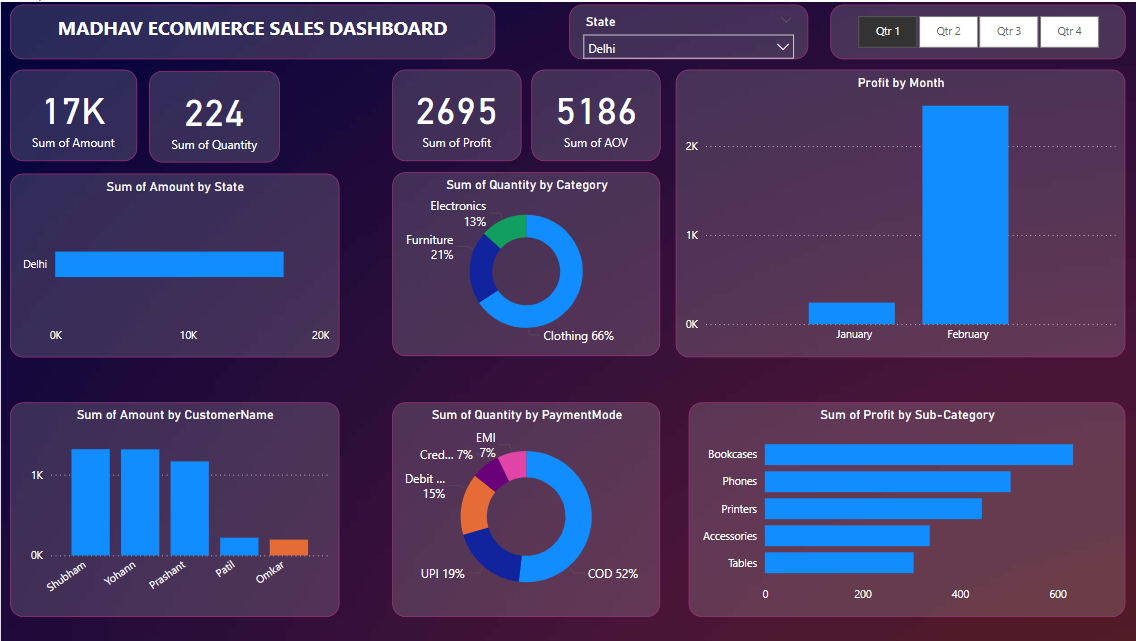

The page's visual inventory and layout, read from the dashboard file:
{"tool":"powerbi","page":{"name":"Page 1","canvas":[1280,720],"ordinal":0},"visuals":[{"type":"textbox","box":[9.6,2.7,546.1,61.7],"z":0},{"type":"columnChart","title":"Profit by Month","fields":{"Category":["Orders.Order Date.Variation.Date Hierarchy.Month"],"Y":["Details.Profit"]},"box":[758.8,75.5,506.3,323.8],"z":1000},{"type":"barChart","fields":{"Category":["Details.Sub-Category"],"Y":["Details.Profit"]},"box":[773.9,451.5,491.3,241.5],"z":2000},{"type":"donutChart","fields":{"Category":["Details.Category"],"Y":["Details.Quantity"]},"box":[440.5,192.1,301.9,207.2],"z":3000},{"type":"donutChart","fields":{"Y":["Details.Quantity"],"Category":["Details.PaymentMode"]},"box":[440.5,451.5,301.9,241.5],"z":4000},{"type":"card","fields":{"Values":["Details.Amount"]},"box":[9.6,75.5,142.7,102.9],"z":5000},{"type":"card","fields":{"Values":["Details.Quantity"]},"box":[167.4,76.8,146.8,102.9],"z":6000},{"type":"card","fields":{"Values":["Details.Profit"]},"box":[440.5,75.5,145.5,102.9],"z":7000},{"type":"card","fields":{"Values":["Details.AOV"]},"box":[596.9,75.5,145.5,102.9],"z":8000},{"type":"barChart","fields":{"Category":["Orders.State"],"Y":["Details.Amount"]},"box":[9.6,193.5,370.5,207.2],"z":9000},{"type":"columnChart","fields":{"Category":["Orders.CustomerName"],"Y":["Details.Amount"]},"box":[9.6,451.5,370.5,241.5],"z":10000},{"type":"slicer","fields":{"Values":["Orders.Order Date.Variation.Date Hierarchy.Quarter"]},"box":[933.1,2.7,332.1,61.7],"z":10001},{"type":"slicer","fields":{"Values":["Orders.State"]},"box":[639.5,2.7,269,61.7],"z":10002}]}

Visuals, with their boxes in screenshot pixels (x1, y1, x2, y2), scaled from the page's 1280x720 canvas onto the 1136x641 screenshot:
textbox: [9, 2, 493, 57]
"Profit by Month" columnChart: [673, 67, 1123, 355]
barChart - Details.Sub-Category x Details.Profit: [687, 402, 1123, 617]
donutChart - Details.Category x Details.Quantity: [391, 171, 659, 355]
donutChart - Details.Quantity x Details.PaymentMode: [391, 402, 659, 617]
card - Details.Amount: [9, 67, 135, 159]
card - Details.Quantity: [149, 68, 279, 160]
card - Details.Profit: [391, 67, 520, 159]
card - Details.AOV: [530, 67, 659, 159]
barChart - Orders.State x Details.Amount: [9, 172, 337, 357]
columnChart - Orders.CustomerName x Details.Amount: [9, 402, 337, 617]
slicer - Orders.Order Date.Variation.Date Hierarchy.Quarter: [828, 2, 1123, 57]
slicer - Orders.State: [568, 2, 806, 57]
